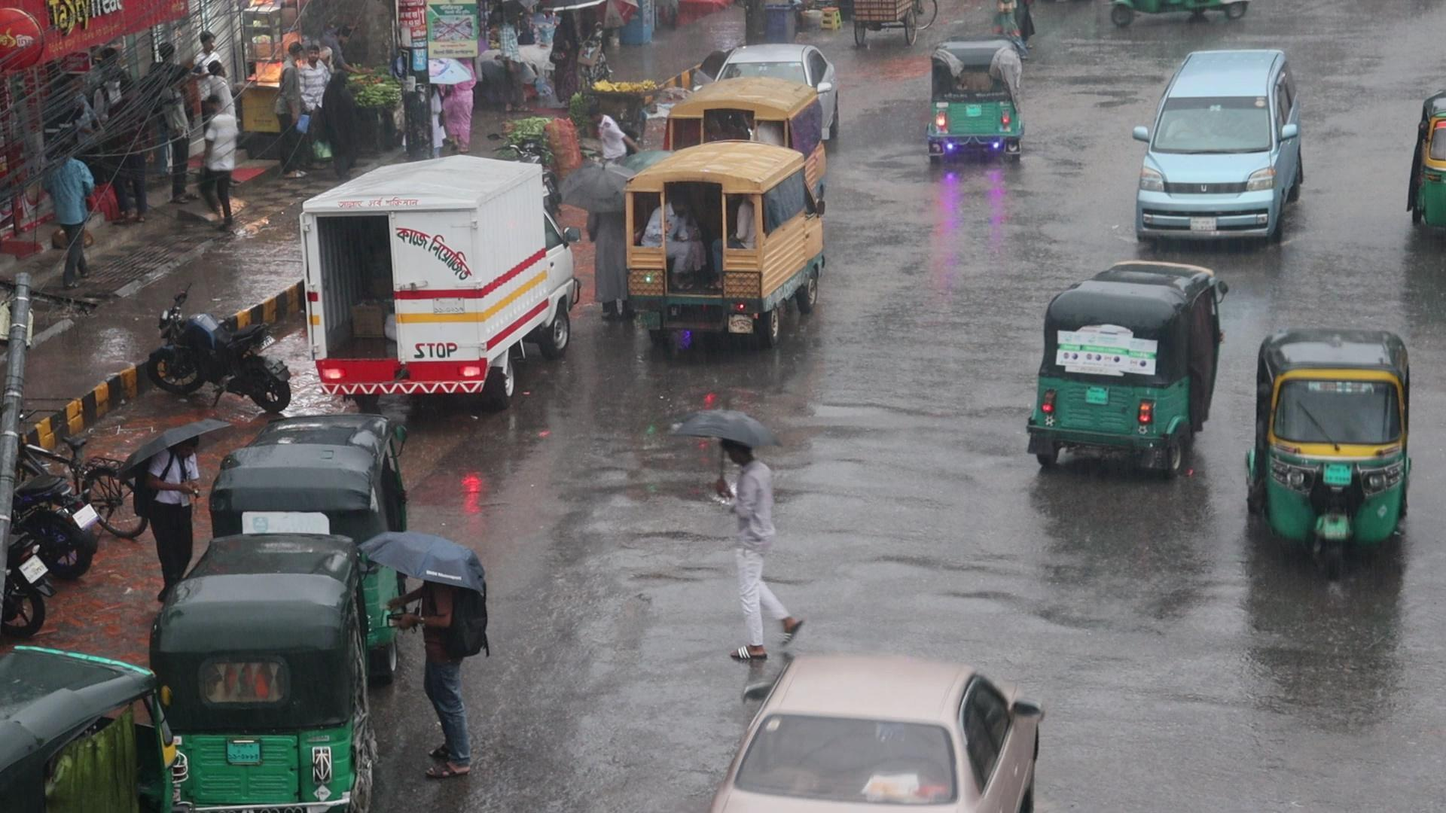Car: (1127, 50, 1308, 248)
Truck: (615, 124, 828, 353)
